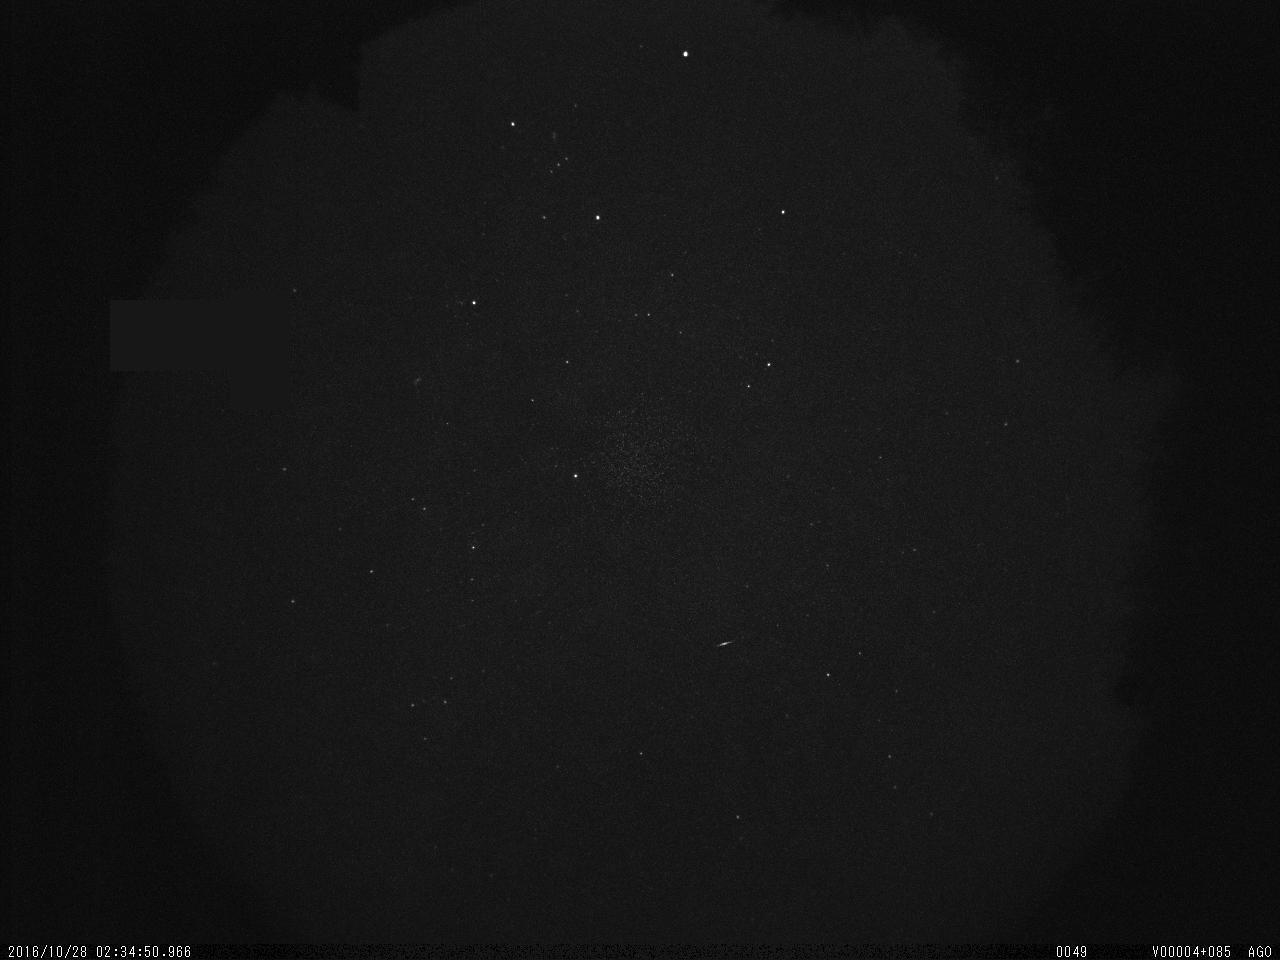meteor: (715, 636, 737, 650)
